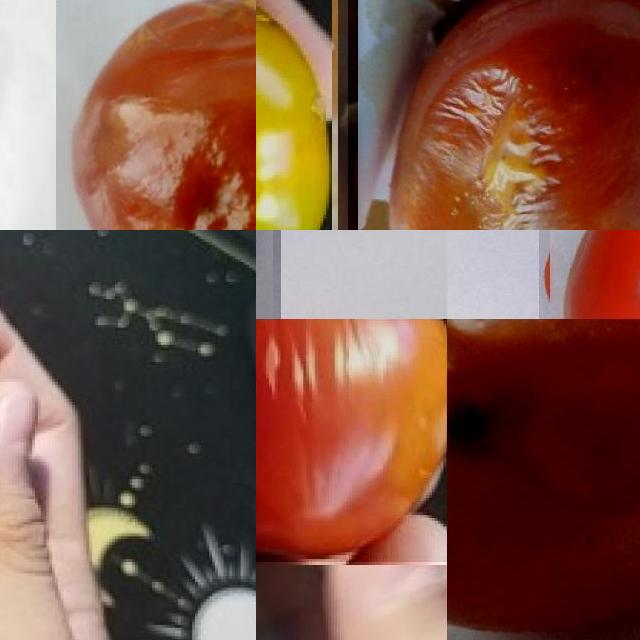1: (347, 0, 640, 230), (256, 0, 332, 230)
Fresh Tomato: (539, 230, 640, 319)
Rotten Tomato: (447, 319, 640, 640), (256, 319, 447, 562), (56, 0, 256, 230)
